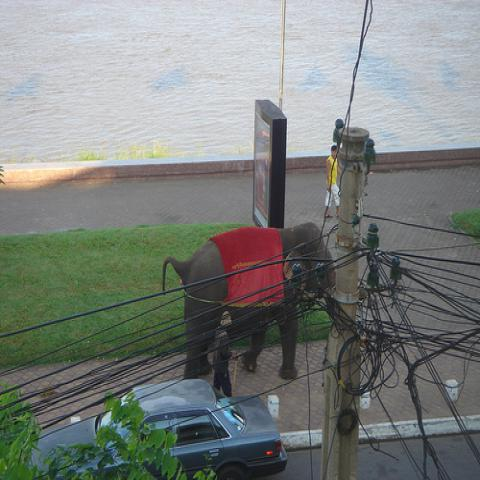car: (29, 379, 288, 479)
